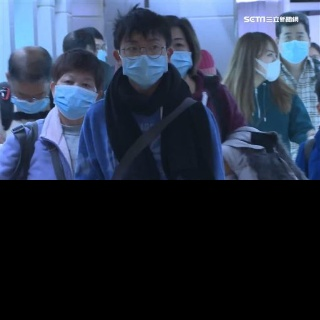with_mask: (117, 37, 167, 87), (53, 73, 99, 118), (277, 28, 309, 62), (169, 33, 193, 78), (10, 87, 50, 114), (256, 48, 281, 83)
